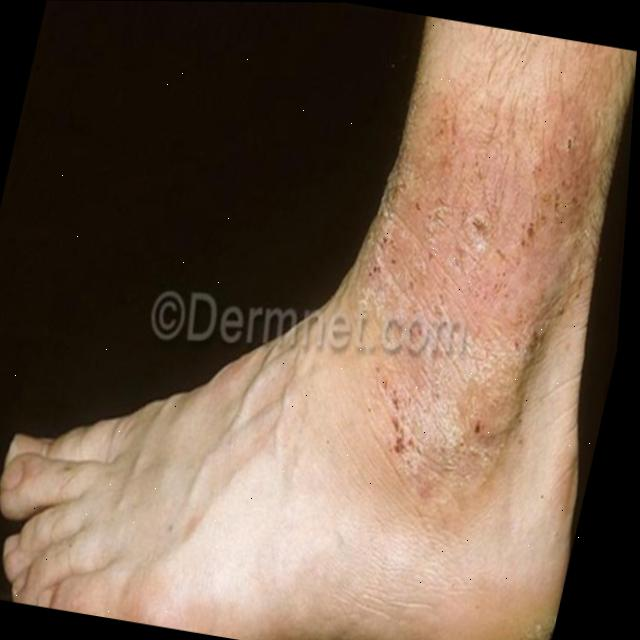Eczema: (320, 51, 620, 472)
